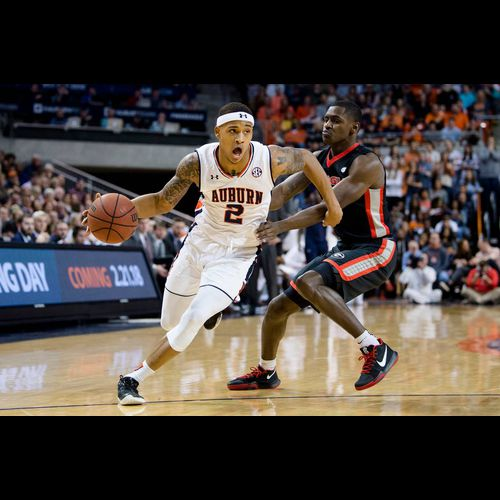ball: (88, 193, 138, 242)
